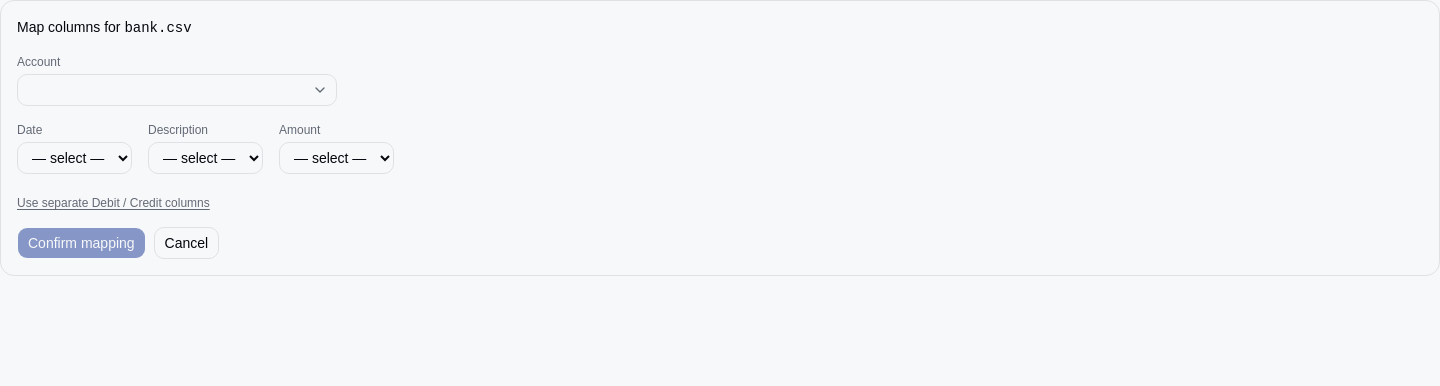
it: ColumnMapper › shows preview table data for mapped columns after Date is selected
The image size is (1440, 386).
Check: the text "2024-01-01" is not shown
Select "Date" in the dropdown labelled "Date" at (74, 158), box [17,142,132,174]
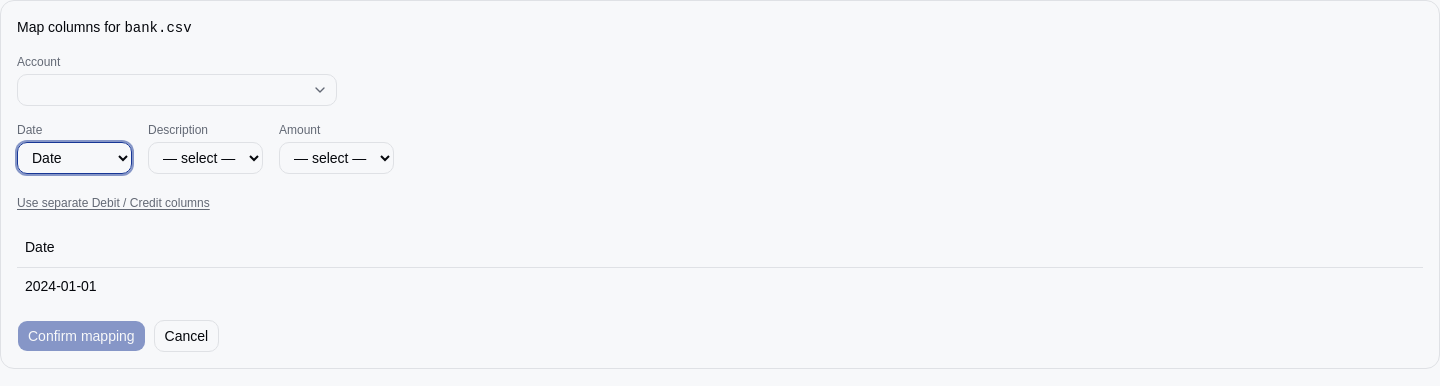
Check: the text "2024-01-01" is shown, box [17,267,1423,304]
